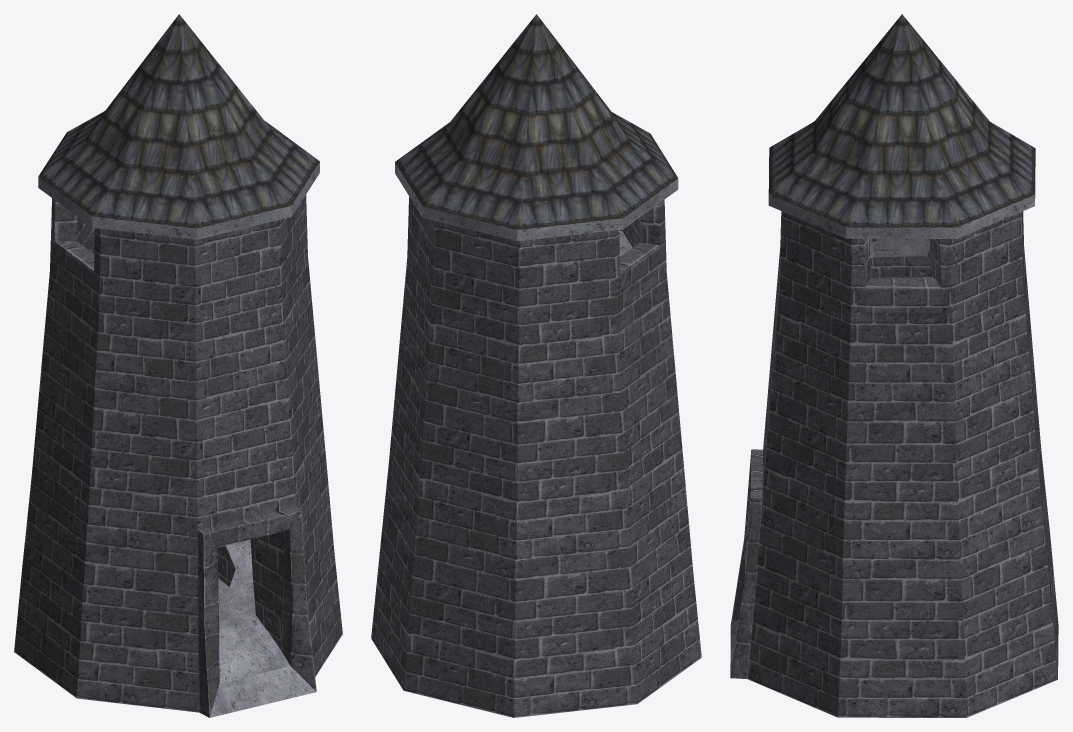
File: towerC.FBX
The picture shows the model from 3 angles, left to right: view 1: azimuth 30°, elevation 25°; view 2: azimuth 150°, elevation 25°; view 3: azimuth 270°, elevation 25°; orthographic projection.
Visible parts, largest first — view 1: tower_C; view 2: tower_C; view 3: tower_C.
Boxes of the visible parts, x1,y1,x2,y2 form: tower_C: (14, 14, 342, 717); tower_C: (371, 14, 701, 717); tower_C: (730, 14, 1058, 717).
Size of the model in its own units: 8.91 by 20.17 by 9.4.
